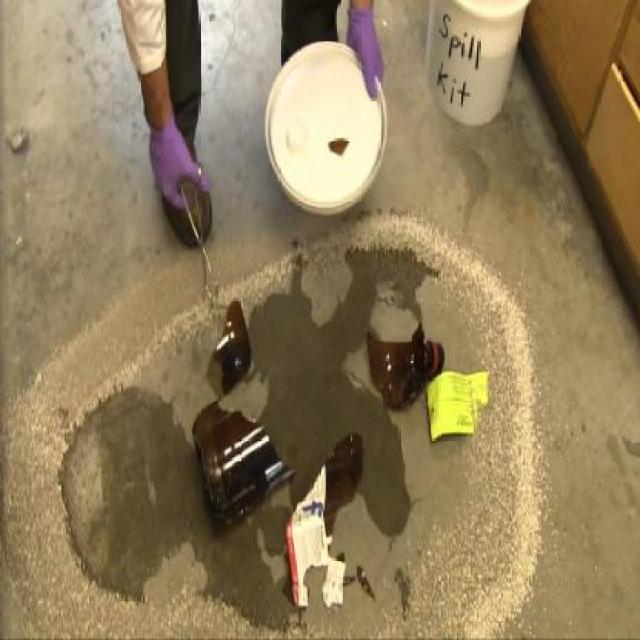spillage: (58, 250, 431, 632)
